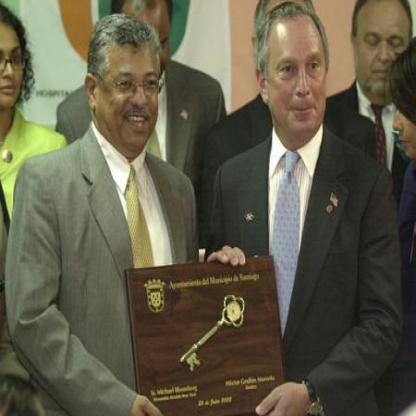face: (98, 20, 164, 152), (266, 6, 330, 138), (356, 1, 411, 102), (1, 17, 26, 112)
